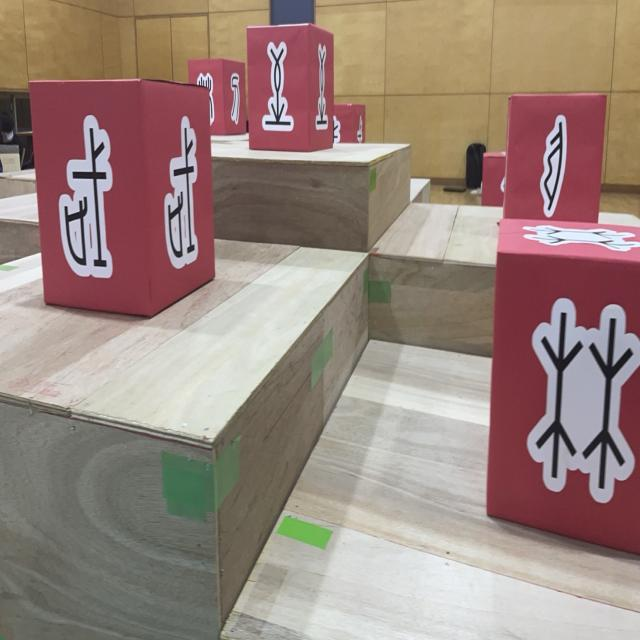11: (540, 114, 568, 217)
2: (196, 73, 214, 126)
3: (230, 72, 240, 125)
5: (58, 114, 113, 278), (164, 116, 199, 268)
6: (526, 297, 640, 504), (523, 224, 640, 253)
7: (263, 41, 293, 131), (316, 40, 328, 130)
9: (334, 115, 341, 144), (357, 114, 363, 143)
fighter: (487, 218, 640, 556), (29, 79, 215, 318), (502, 93, 607, 223), (246, 23, 334, 151), (188, 58, 246, 134), (481, 150, 506, 207), (334, 103, 366, 142)
